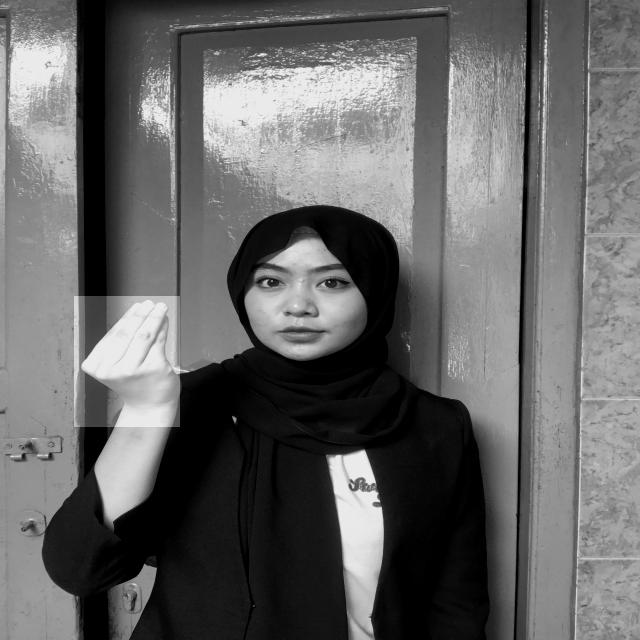berapa: (74, 296, 180, 427)
